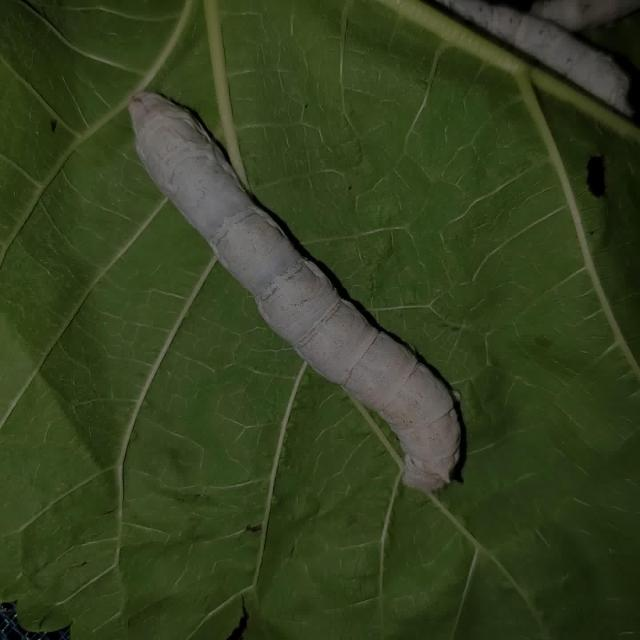Healthy: (119, 81, 470, 498)
